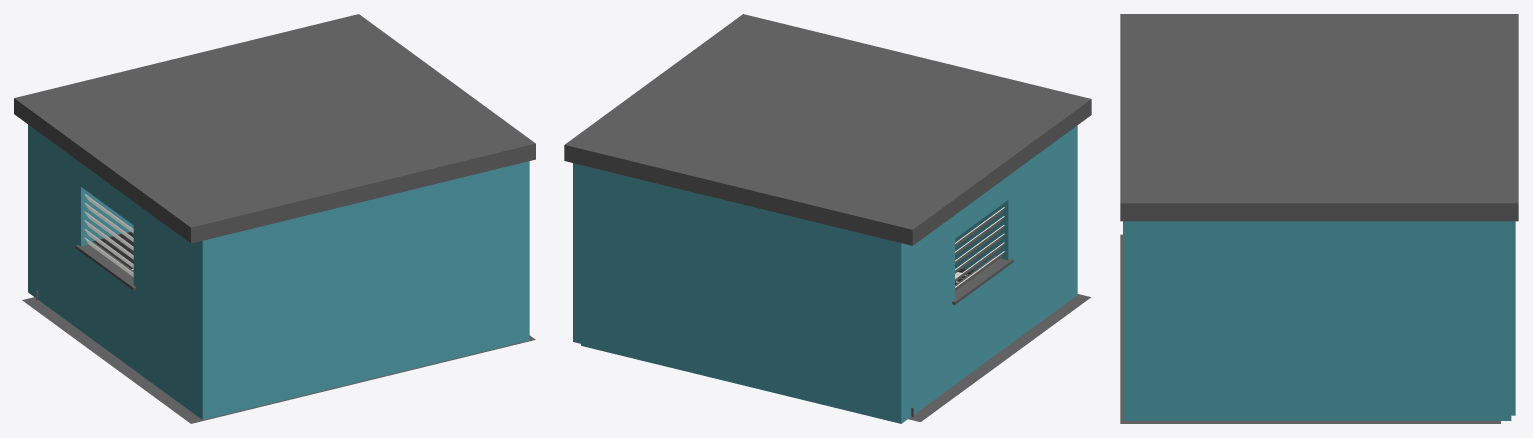
Rendered from workspace.glb.
The picture shows the model from 3 angles, left to right: view 1: azimuth 30°, elevation 25°; view 2: azimuth 150°, elevation 25°; view 3: azimuth 270°, elevation 25°; orthographic projection. The views are drawn at different scales.
Parts seen in each view (by area): view 1: walls, ceiling, floor, blinds; view 2: walls, ceiling, floor, blinds; view 3: ceiling, walls, floor.
Boxes of the visible parts, bbox=[...] form: walls: bbox=[28, 124, 529, 419]; ceiling: bbox=[14, 14, 535, 243]; floor: bbox=[22, 297, 535, 423]; blinds: bbox=[84, 194, 133, 276]; walls: bbox=[573, 125, 1077, 423]; ceiling: bbox=[564, 14, 1091, 245]; floor: bbox=[908, 294, 1090, 421]; blinds: bbox=[955, 207, 1004, 290]; ceiling: bbox=[1120, 14, 1518, 221]; walls: bbox=[1123, 221, 1515, 420]; floor: bbox=[1120, 234, 1500, 423].
Bounding box in the file's own units: 7.9 × 4.33 × 7.03.
